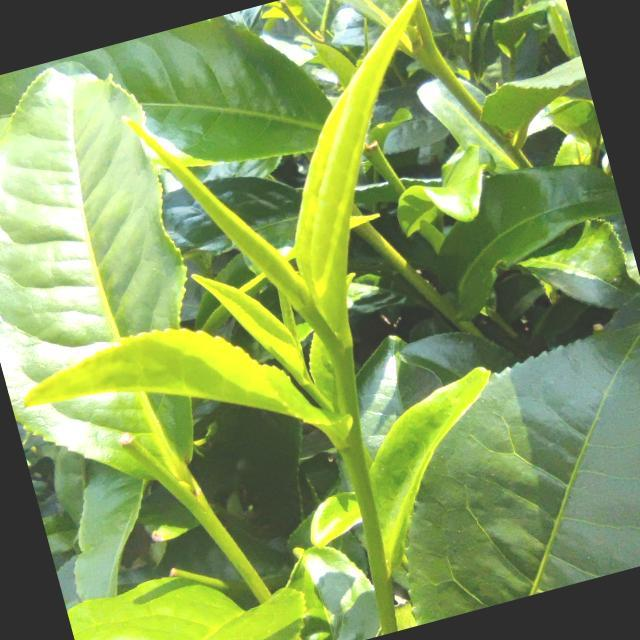Stem: (334, 354, 355, 421)
